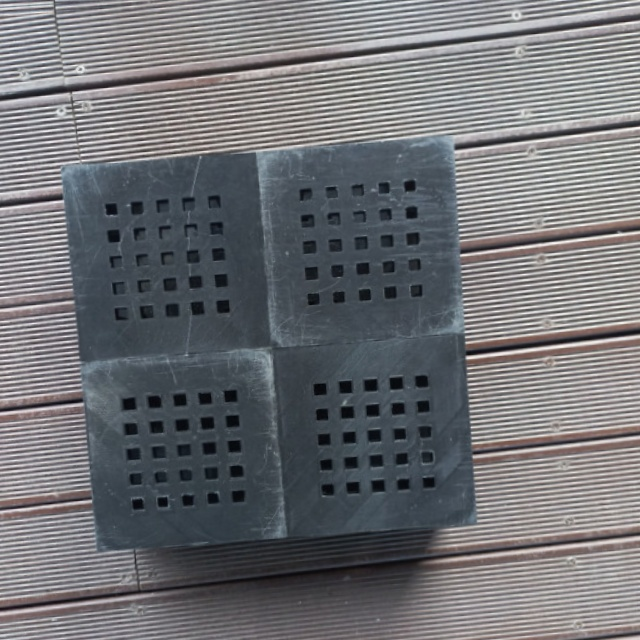pallet: (39, 130, 480, 551)
